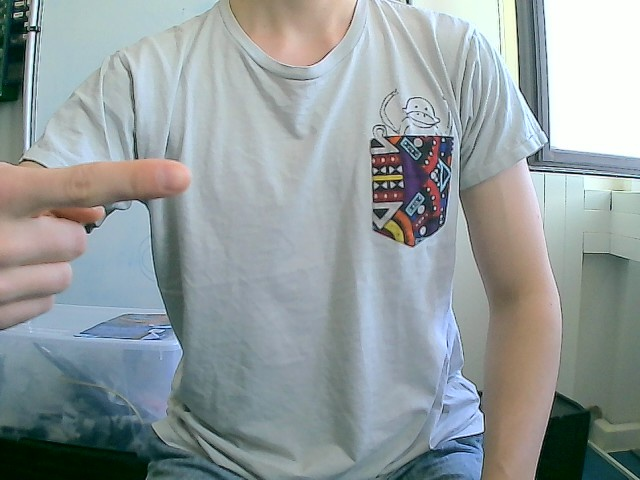left: (0, 156, 192, 331)
